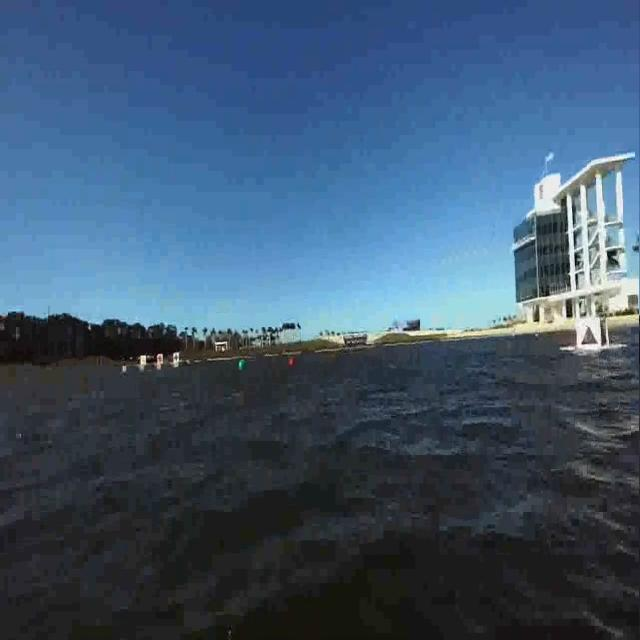green-buoy: (239, 359, 247, 369)
red-column-buoy: (289, 357, 295, 367)
yellow-buoy: (80, 369, 88, 385)
